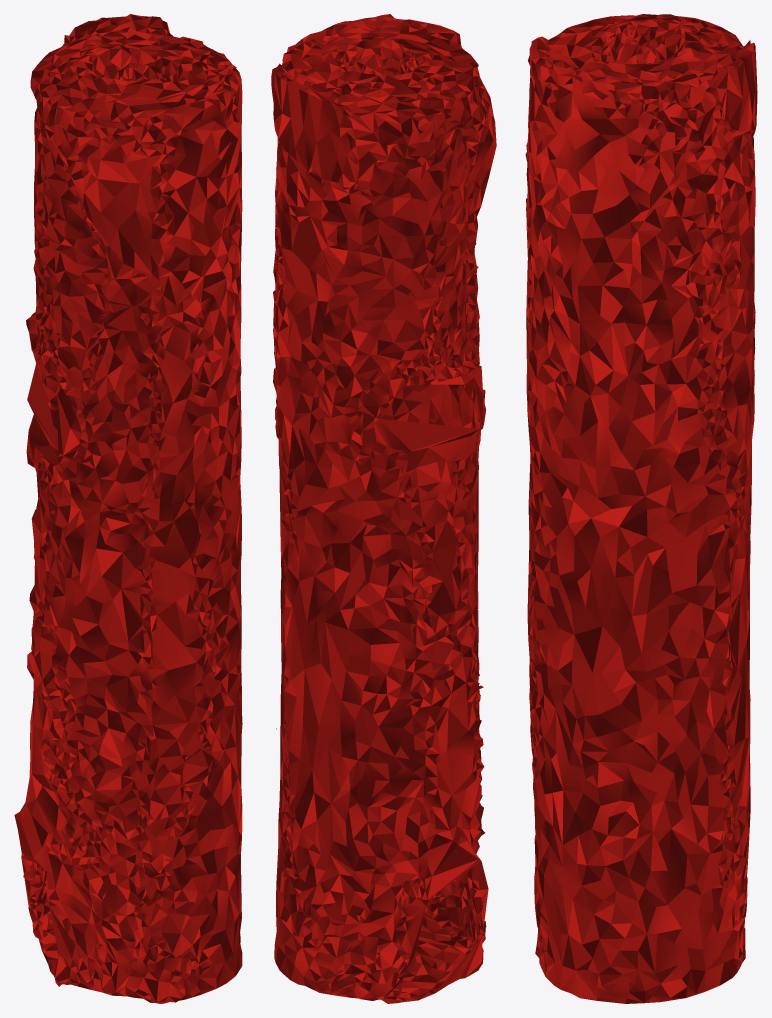
The model's file is h2_14_yogamat_props.glb.
3 views of the same model, side by side, from view 1: azimuth 30°, elevation 25°; view 2: azimuth 150°, elevation 25°; view 3: azimuth 270°, elevation 25° (orthographic). The views are drawn at different scales.
Parts seen in each view (by area): view 1: o00; view 2: o00; view 3: o00.
Part boxes in pixels (bbox=[...]): o00: bbox=[14, 14, 242, 1003]; o00: bbox=[271, 14, 496, 1003]; o00: bbox=[525, 14, 757, 1003].
Size of the model in its own units: 0.2228 by 1 by 0.2259.
